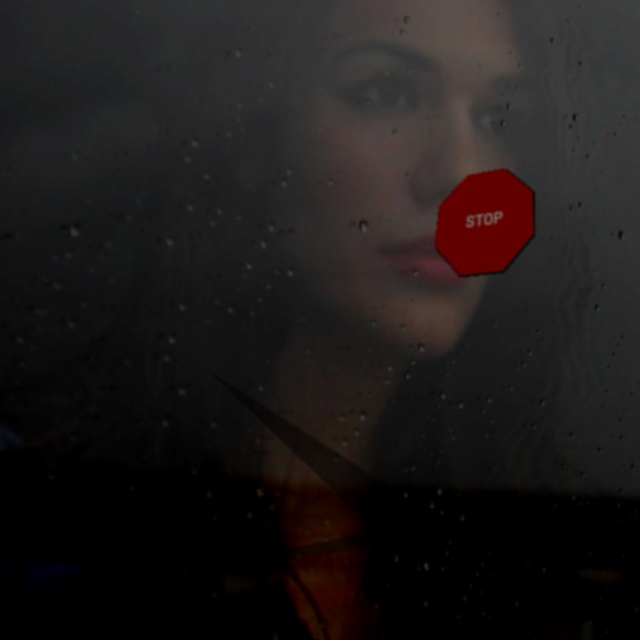STOP: (434, 168, 535, 277)
